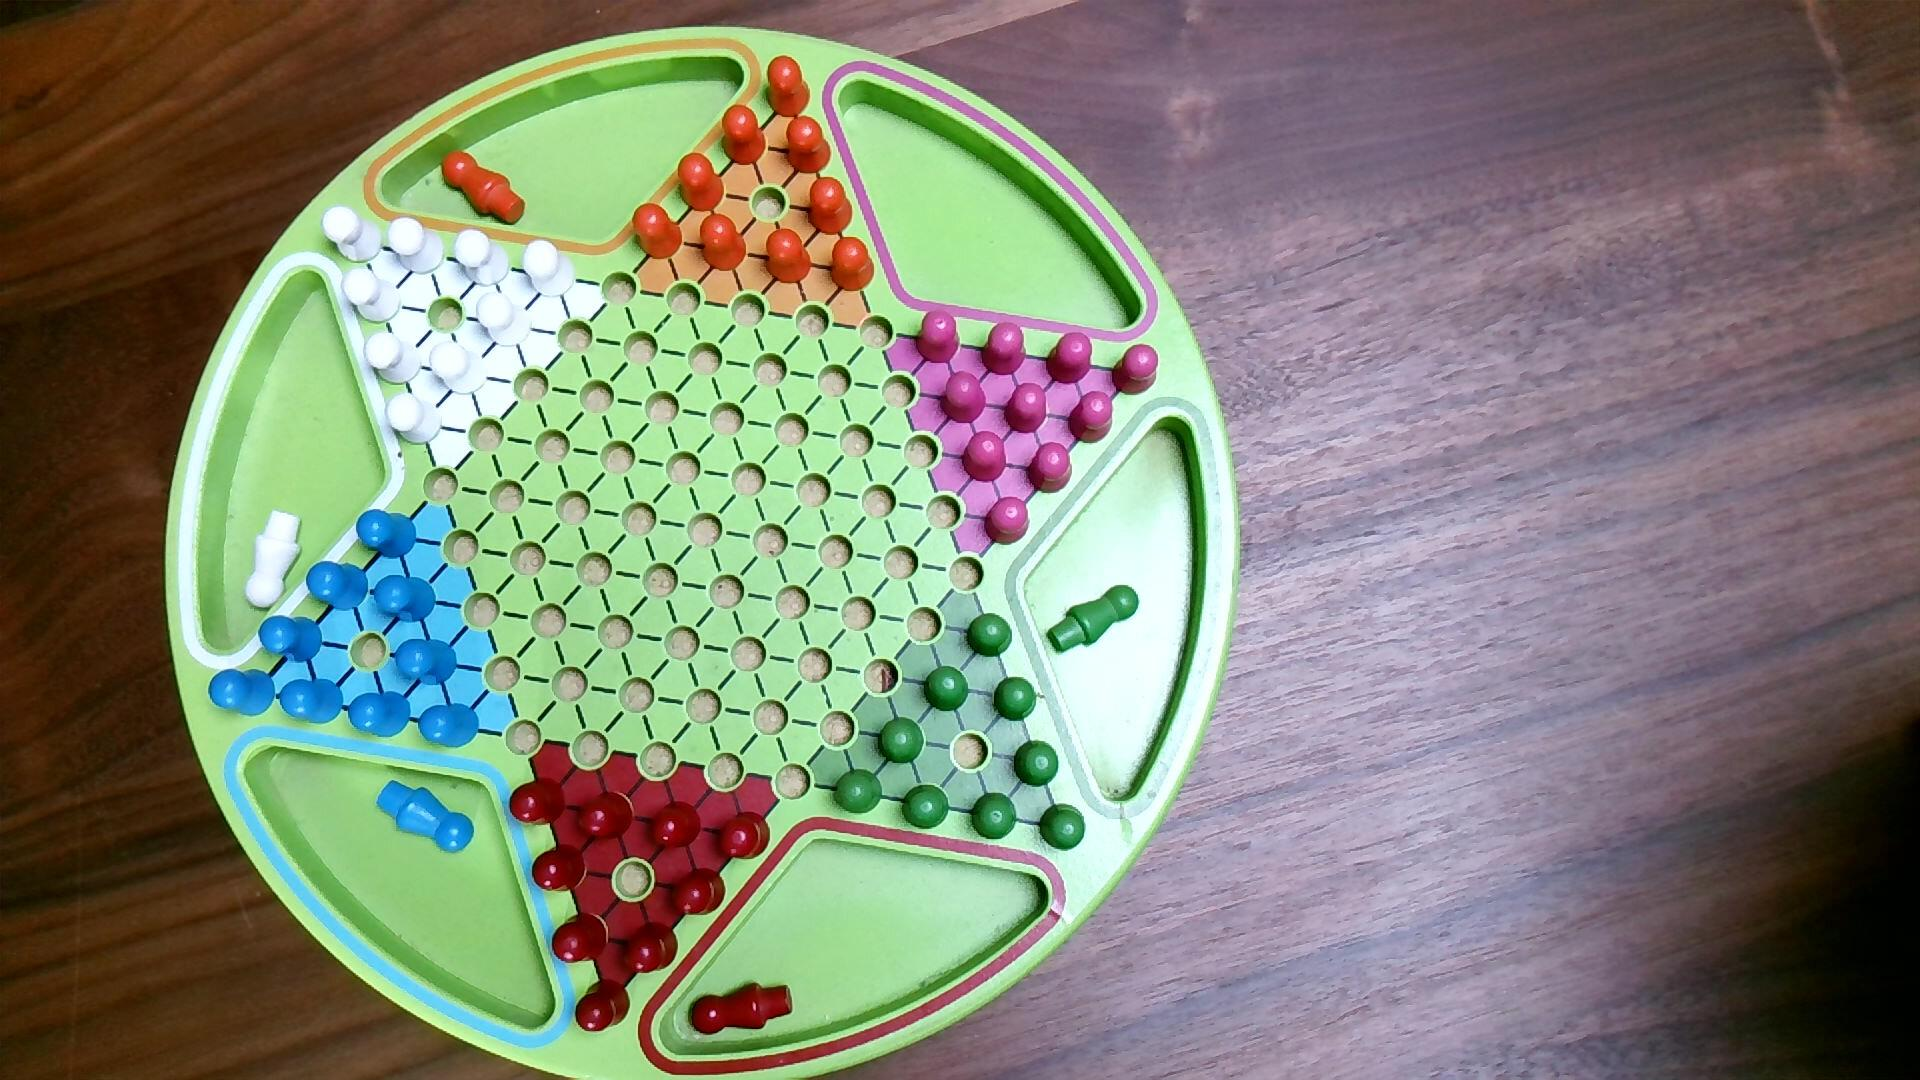B: (207, 667, 278, 719), (355, 506, 419, 562), (305, 559, 371, 613), (373, 574, 439, 626), (257, 615, 324, 666), (393, 637, 460, 688), (347, 690, 414, 740), (280, 676, 345, 727), (417, 702, 483, 752)
G: (1036, 802, 1088, 855), (876, 716, 927, 767), (832, 767, 884, 818), (1011, 738, 1062, 789), (971, 793, 1019, 843), (965, 611, 1015, 659), (899, 783, 951, 831), (923, 665, 971, 713), (992, 675, 1039, 724)
O: (764, 55, 814, 121), (720, 103, 770, 167), (630, 204, 686, 262), (806, 175, 856, 239), (676, 152, 727, 215), (785, 113, 835, 175), (699, 214, 749, 274), (764, 228, 814, 287), (828, 235, 876, 294)
R: (574, 977, 633, 1035), (550, 911, 611, 967), (575, 789, 636, 843), (622, 920, 680, 976), (669, 866, 729, 919), (508, 775, 568, 828), (530, 843, 589, 895), (716, 808, 773, 862), (646, 799, 703, 851)
R2: (978, 320, 1029, 378), (1065, 389, 1116, 446), (1044, 330, 1095, 386), (938, 369, 988, 426), (914, 309, 963, 367), (1025, 440, 1075, 496), (982, 495, 1033, 549), (1110, 343, 1160, 397), (961, 431, 1009, 484), (1002, 382, 1048, 436)
W: (319, 206, 385, 266), (339, 266, 404, 327), (386, 216, 448, 277), (521, 239, 578, 301), (429, 340, 491, 397), (454, 228, 512, 287), (473, 291, 534, 348), (382, 392, 444, 447), (363, 331, 425, 386)
